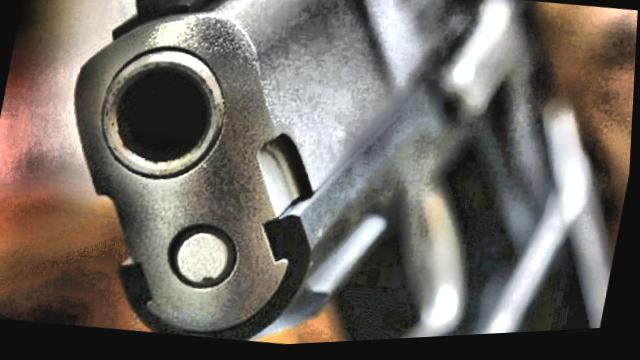pistol: (63, 0, 572, 357)
